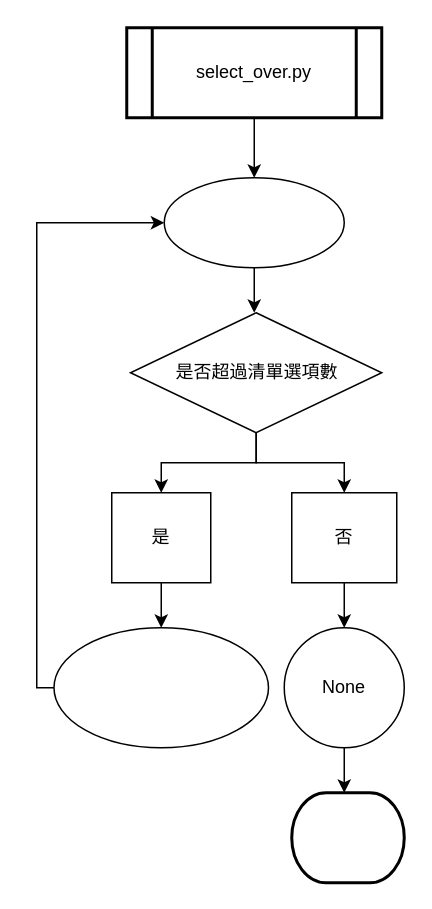
Some shapes in this 432 by 909 pixel diagram are drawn without their labels. The centre of each missing label's shape, as x and y in pixels:
end: the point at 347,837
請輸入正確的選項，True: the point at 160,687
輸入數字: the point at 253,222
